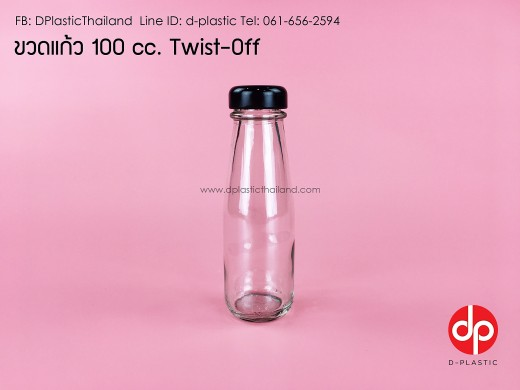glass_bottle: (218, 78, 300, 326)
